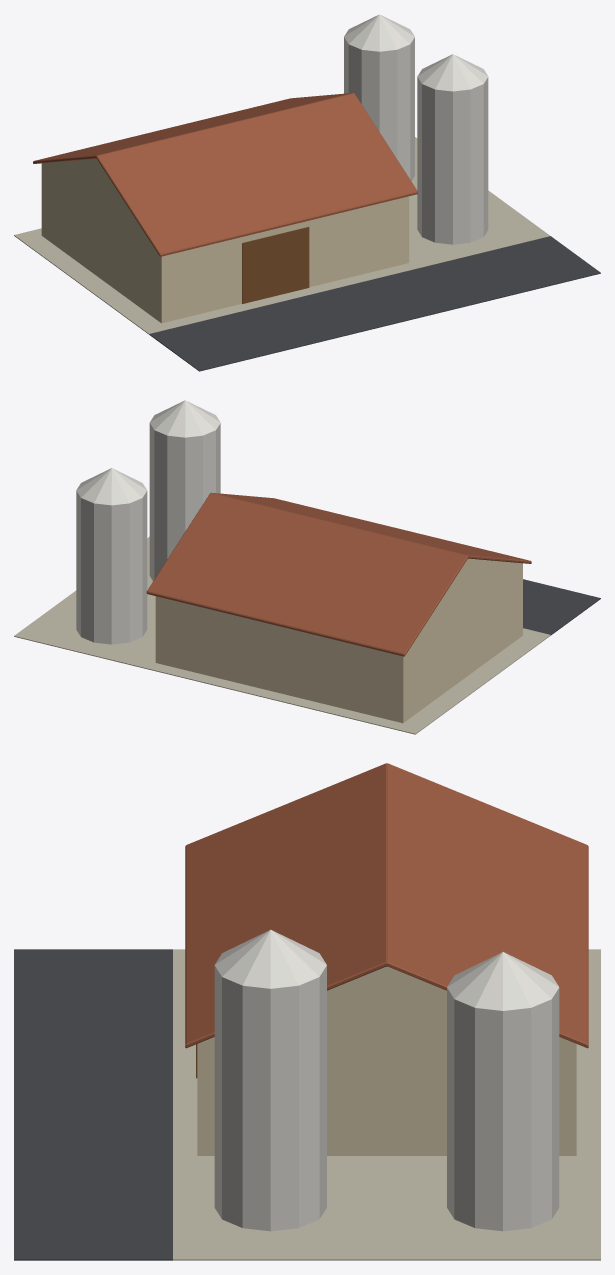
File: site_barn.glb
3 renders of one model, top to bottom at view 1: azimuth 30°, elevation 25°; view 2: azimuth 150°, elevation 25°; view 3: azimuth 270°, elevation 25°, orthographic. The views are drawn at different scales.
Parts seen in each view (by area): view 1: site_barn; view 2: site_barn; view 3: site_barn.
Boxes of the visible parts, x1=… form: site_barn: x1=14, y1=14, x2=600, y2=371; site_barn: x1=14, y1=400, x2=600, y2=734; site_barn: x1=14, y1=763, x2=600, y2=1260.
Size of the model in its own units: 30 by 12.6 by 24.
